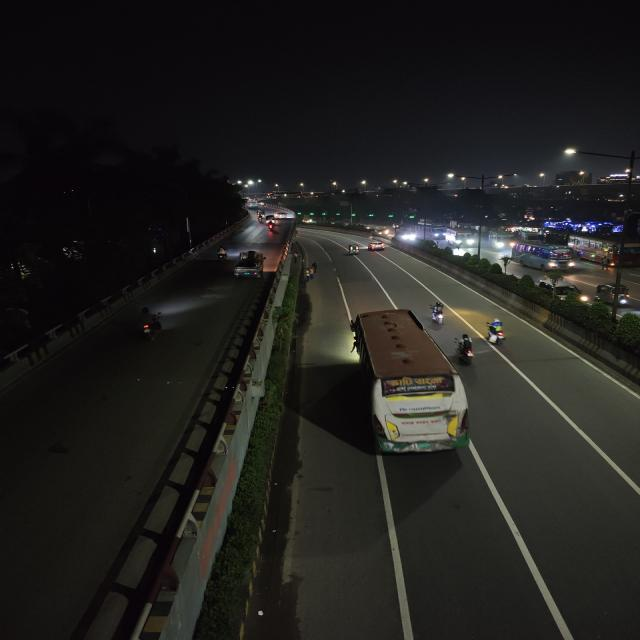bus: (343, 302, 470, 452), (579, 234, 638, 268), (510, 241, 570, 272), (489, 230, 517, 250), (447, 228, 474, 248), (428, 228, 445, 240)
car: (369, 240, 386, 253), (276, 212, 288, 220)
cng: (595, 280, 630, 308), (348, 243, 362, 257), (264, 215, 276, 224)
motorcycle: (481, 314, 514, 359), (132, 304, 166, 346), (454, 335, 482, 367), (429, 299, 454, 329), (213, 244, 226, 262), (267, 222, 276, 236), (258, 214, 264, 223)
pedestrian: (601, 255, 609, 270), (309, 266, 317, 279), (312, 262, 320, 274), (294, 251, 301, 262), (306, 268, 312, 280)
truck: (230, 248, 269, 280)
